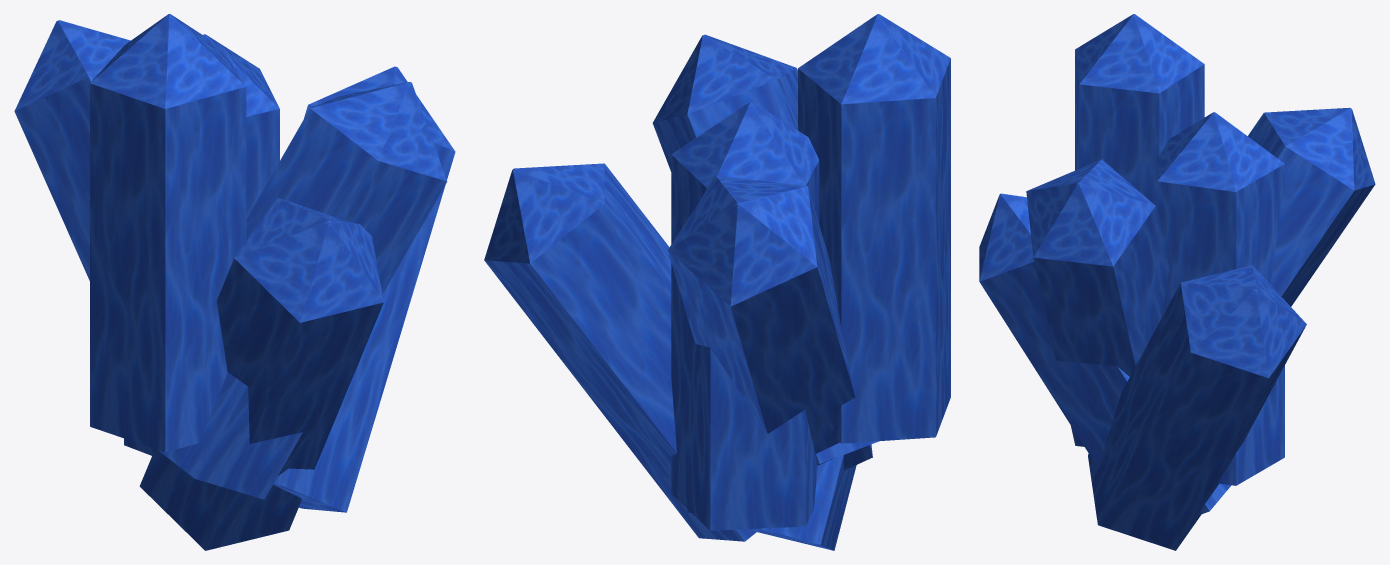
The model's file is mineral.obj.
3 views of the same model, side by side, from view 1: azimuth 30°, elevation 25°; view 2: azimuth 150°, elevation 25°; view 3: azimuth 270°, elevation 25° (orthographic). The views are drawn at different scales.
Parts seen in each view (by area): view 1: Cylinder; view 2: Cylinder; view 3: Cylinder.
Part boxes in pixels (x1,y1,x2,y2): Cylinder: (14,14,455,550); Cylinder: (484,14,950,550); Cylinder: (979,14,1375,550).
Bounding box in the file's own units: 0.8727 × 1.18 × 0.8993.
Materials: 1 (1 with a texture image).
